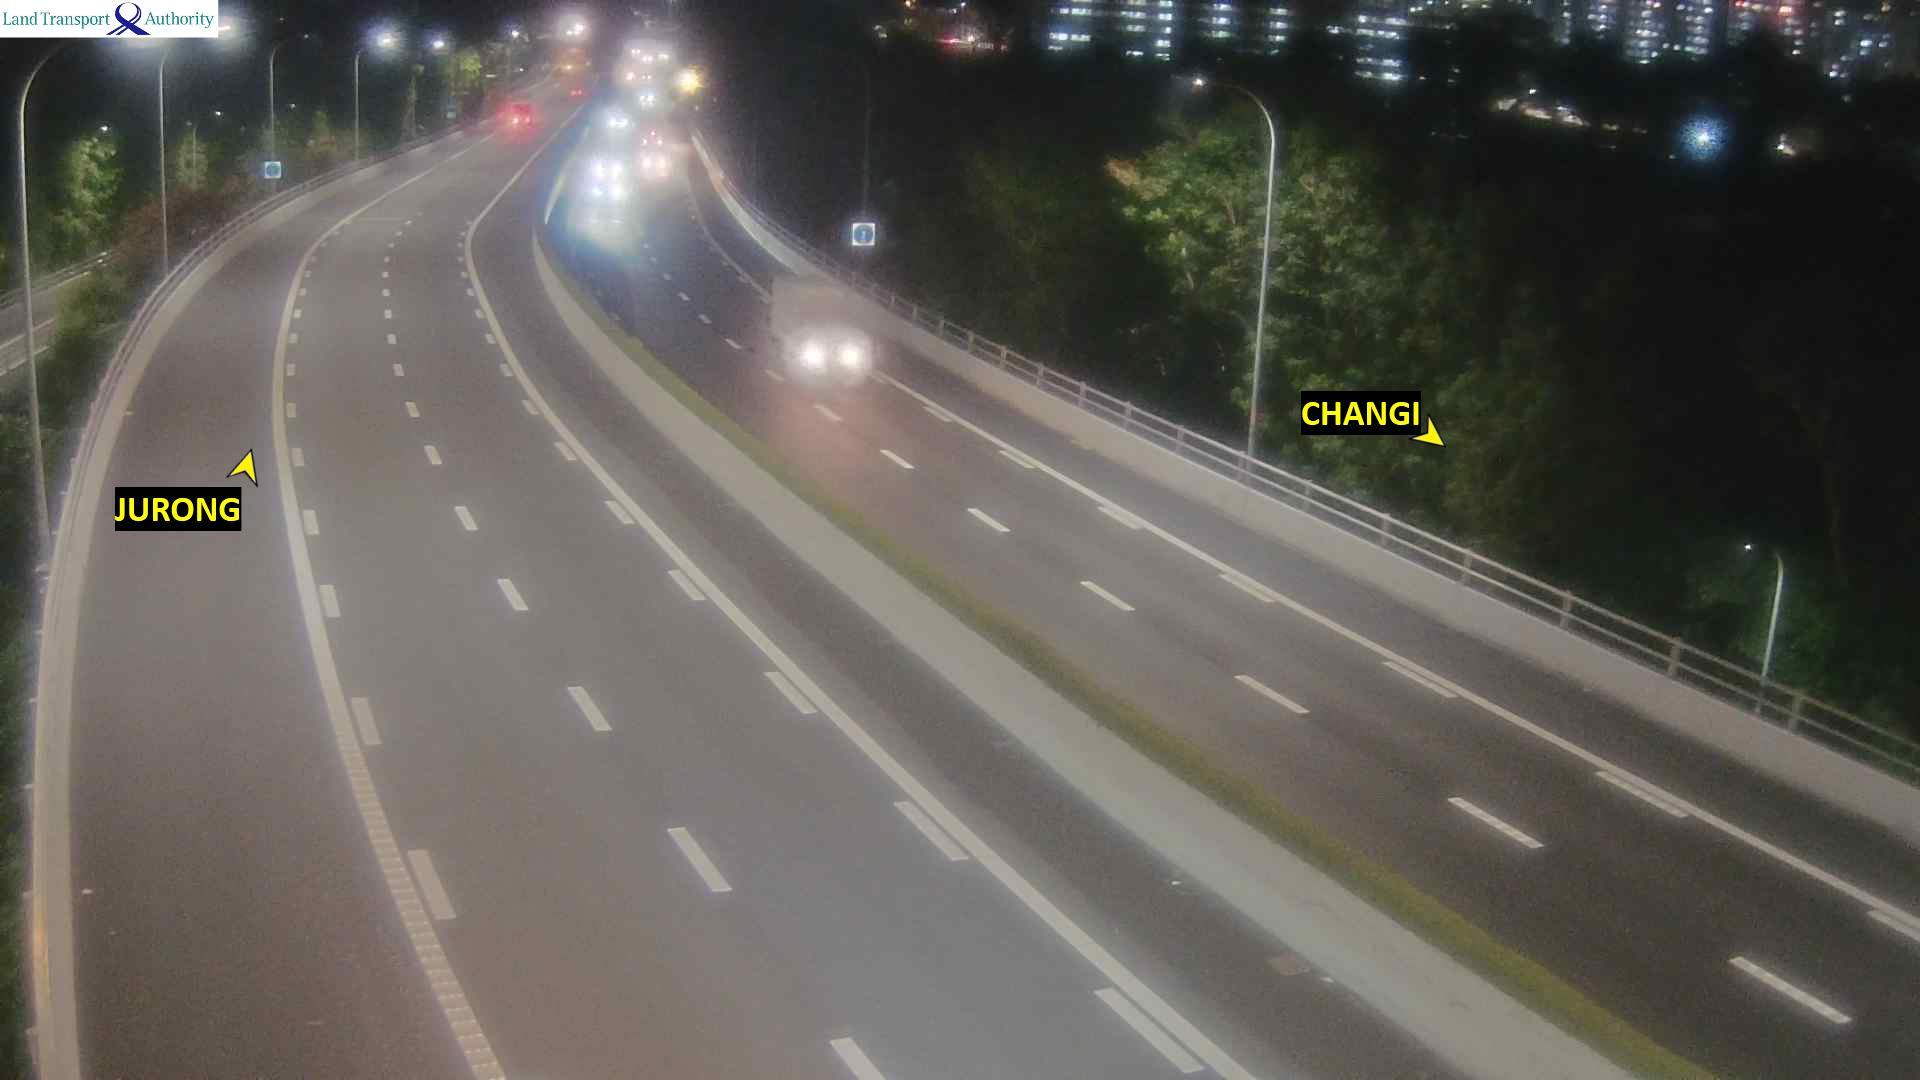incoming: (794, 301, 884, 400)
